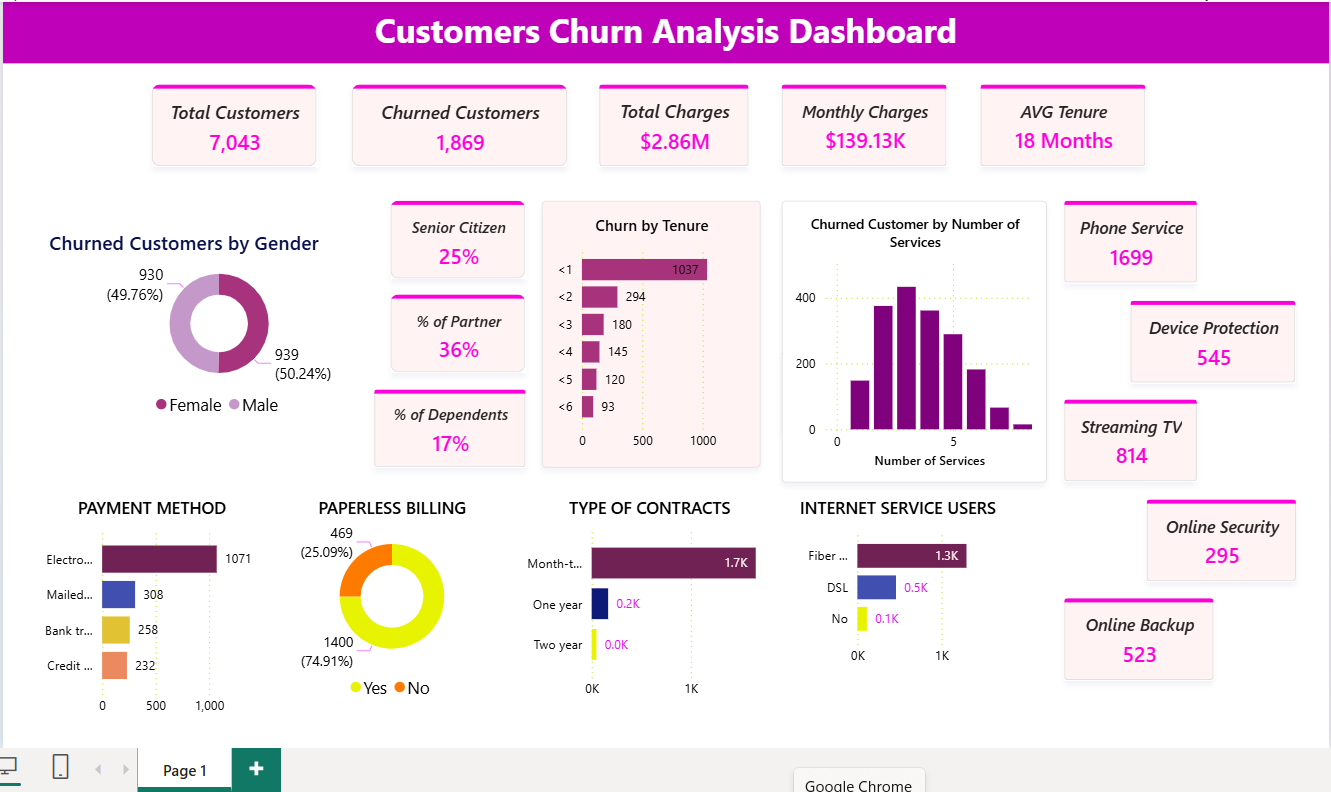

The dashboard page shown, as its layout file describes it:
{"tool":"powerbi","page":{"name":"Page 1","canvas":[1280,720],"ordinal":0},"visuals":[{"type":"cardVisual","fields":{"Data":["customer_churn.Total Customers"]},"box":[144,80,160,80],"z":0},{"type":"textbox","box":[0,0,1280,59.1],"z":1000},{"type":"cardVisual","fields":{"Data":["customer_churn.Churned Customers"]},"box":[336,80,208,80],"z":2000},{"type":"donutChart","title":"Churned Customers by Gender","fields":{"Category":["customer_churn.gender"],"Y":["customer_churn.Churned Customers gender"]},"box":[32,208,352,208],"z":3000,"group":"g1"},{"type":"cardVisual","fields":{"Data":["customer_churn.Senior Citizen"]},"box":[373.7,192,130.1,75.8],"z":4000,"group":"g1"},{"type":"cardVisual","fields":{"Data":["customer_churn.% of Partner"]},"box":[373.7,282.9,130.1,75.8],"z":4001,"group":"g1"},{"type":"cardVisual","fields":{"Data":["customer_churn.% of Dependents"]},"box":[357.4,373.9,146.3,75.8],"z":4003,"group":"g1"},{"type":"barChart","title":"Churn by Tenure","fields":{"Category":["customer_churn.Churn by Tenure"],"Y":["customer_churn.Churned Customer"]},"box":[520,192,211.3,257.7],"z":4004,"group":"g1"},{"type":"group","id":"g1","title":"Group 1","box":[32,192,699.3,257.7],"z":4005},{"type":"barChart","title":"PAYMENT METHOD","fields":{"Category":["customer_churn.PaymentMethod"],"Y":["customer_churn.Churned Customer"]},"box":[16,464,256,240],"z":4007},{"type":"donutChart","title":"PAPERLESS BILLING","fields":{"Category":["customer_churn.PaperlessBilling"],"Y":["customer_churn.Churned Customer"]},"box":[272,464,208,224],"z":4008},{"type":"barChart","title":"TYPE OF CONTRACTS","fields":{"Category":["customer_churn.Contract"],"Y":["customer_churn.Churned Customer"]},"box":[480,464,288,224],"z":4009},{"type":"barChart","title":"INTERNET SERVICE USERS","fields":{"Category":["customer_churn.InternetService"],"Y":["customer_churn.Churned Customer"]},"box":[752,464,224,192],"z":4010},{"type":"cardVisual","fields":{"Data":["customer_churn.Total Charges"]},"box":[576,80,144,80],"z":4011},{"type":"cardVisual","fields":{"Data":["customer_churn.Monthly Charges"]},"box":[752,80,160,80],"z":4012},{"type":"cardVisual","fields":{"Data":["customer_churn.AVG Tenure"]},"box":[944,80,160,80],"z":4013},{"type":"cardVisual","fields":{"Data":["customer_churn.Phone Service"]},"box":[1024,192,128,80],"z":4014},{"type":"cardVisual","fields":{"Data":["customer_churn.Device Protection"]},"box":[1088,288,160,80],"z":4015},{"type":"cardVisual","fields":{"Data":["customer_churn.Streaming TV"]},"box":[1024,384,128,80],"z":4016},{"type":"cardVisual","fields":{"Data":["customer_churn.Streaming Movies"]},"box":[752,336,160,80],"z":4017},{"type":"cardVisual","fields":{"Data":["customer_churn.Online Security"]},"box":[1104,480,144,80],"z":4018},{"type":"cardVisual","fields":{"Data":["customer_churn.Online Backup"]},"box":[1024,576,144,80],"z":4019},{"type":"columnChart","title":"Churned Customer by Number of Services","fields":{"Category":["customer_churn.Number_of_Services"],"Y":["customer_churn.Churned Customer"]},"box":[752,192,256,272],"z":4020}]}

Visuals, with their boxes on the page's 1280x720 design canvas (x1, y1, x2, y2). These are canvas units, not pixel positions in the 1331x792 screenshot, which may show the page scaled, cropped or inside an application window:
cardVisual - customer_churn.Total Customers: [144,80,304,160]
textbox: [0,0,1280,59]
cardVisual - customer_churn.Churned Customers: [336,80,544,160]
"Churned Customers by Gender" donutChart: [32,208,384,416]
cardVisual - customer_churn.Senior Citizen: [374,192,504,268]
cardVisual - customer_churn.% of Partner: [374,283,504,359]
cardVisual - customer_churn.% of Dependents: [357,374,504,450]
"Churn by Tenure" barChart: [520,192,731,450]
"Group 1" group: [32,192,731,450]
"PAYMENT METHOD" barChart: [16,464,272,704]
"PAPERLESS BILLING" donutChart: [272,464,480,688]
"TYPE OF CONTRACTS" barChart: [480,464,768,688]
"INTERNET SERVICE USERS" barChart: [752,464,976,656]
cardVisual - customer_churn.Total Charges: [576,80,720,160]
cardVisual - customer_churn.Monthly Charges: [752,80,912,160]
cardVisual - customer_churn.AVG Tenure: [944,80,1104,160]
cardVisual - customer_churn.Phone Service: [1024,192,1152,272]
cardVisual - customer_churn.Device Protection: [1088,288,1248,368]
cardVisual - customer_churn.Streaming TV: [1024,384,1152,464]
cardVisual - customer_churn.Streaming Movies: [752,336,912,416]
cardVisual - customer_churn.Online Security: [1104,480,1248,560]
cardVisual - customer_churn.Online Backup: [1024,576,1168,656]
"Churned Customer by Number of Services" columnChart: [752,192,1008,464]
